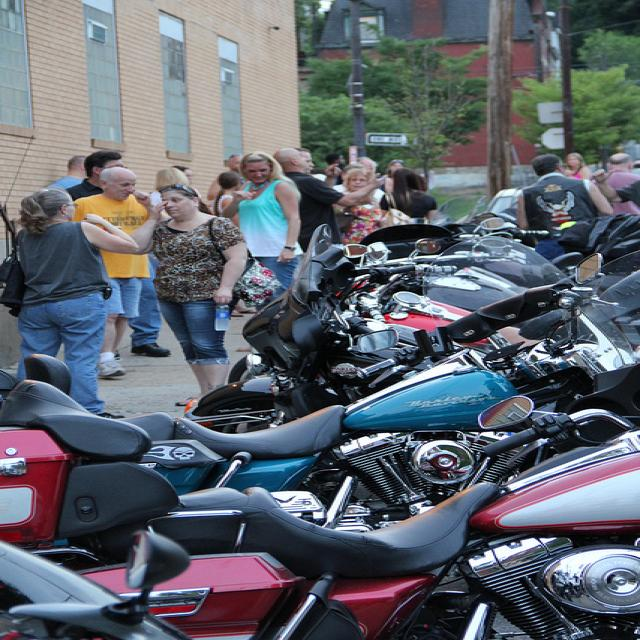motor: (0, 215, 640, 633), (492, 212, 640, 265)
